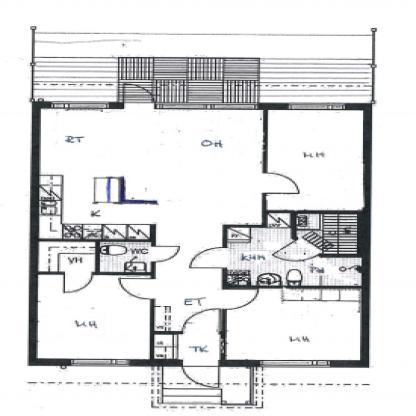bathroom: (225, 227, 368, 288), (99, 240, 158, 274)
door: (175, 358, 226, 392), (272, 236, 325, 265), (111, 82, 161, 112), (178, 308, 224, 336), (259, 170, 303, 197), (111, 276, 158, 301), (216, 288, 262, 313), (187, 246, 231, 270), (58, 269, 94, 294), (149, 244, 182, 267)
perimeter: (33, 101, 370, 366)
window: (156, 99, 265, 112), (256, 356, 338, 370), (282, 100, 356, 115), (45, 100, 119, 112), (64, 356, 135, 368)
